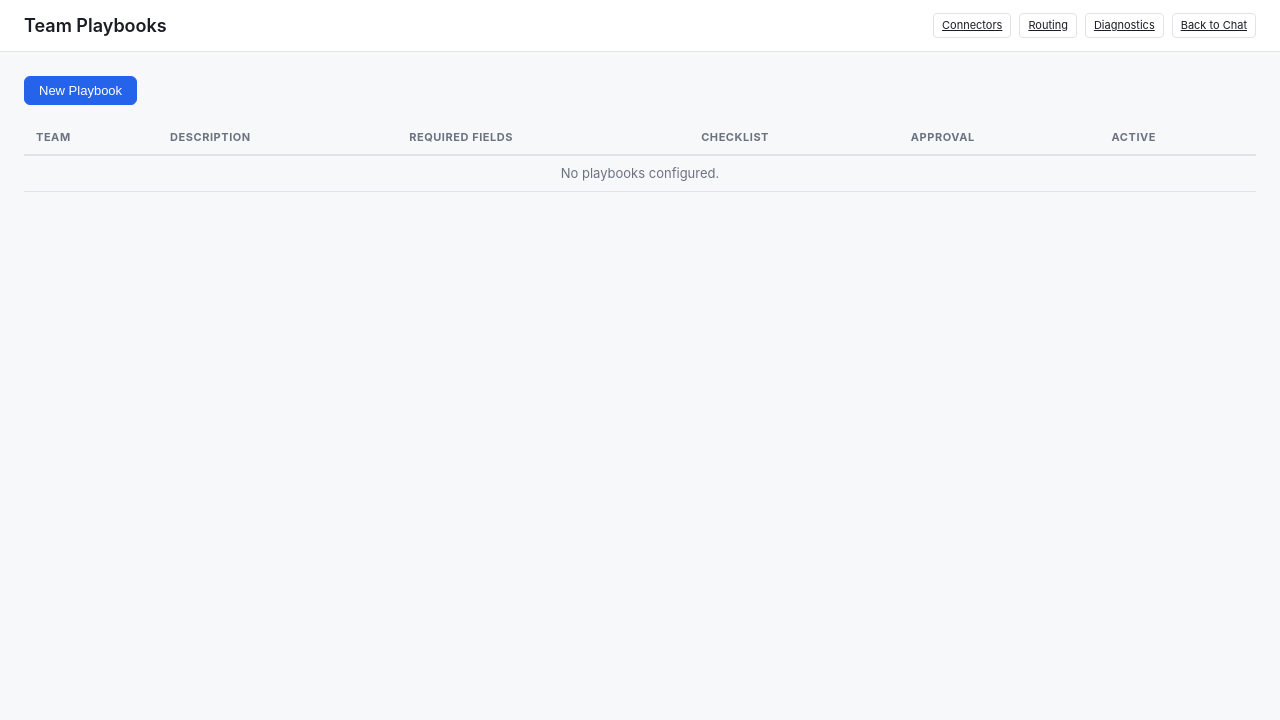
Test: PlaybooksPage › checklist form has aria-labels on input and remove buttons
Click the button with test id "new-playbook-btn".
click(81, 90)  # box [24, 76, 137, 105]
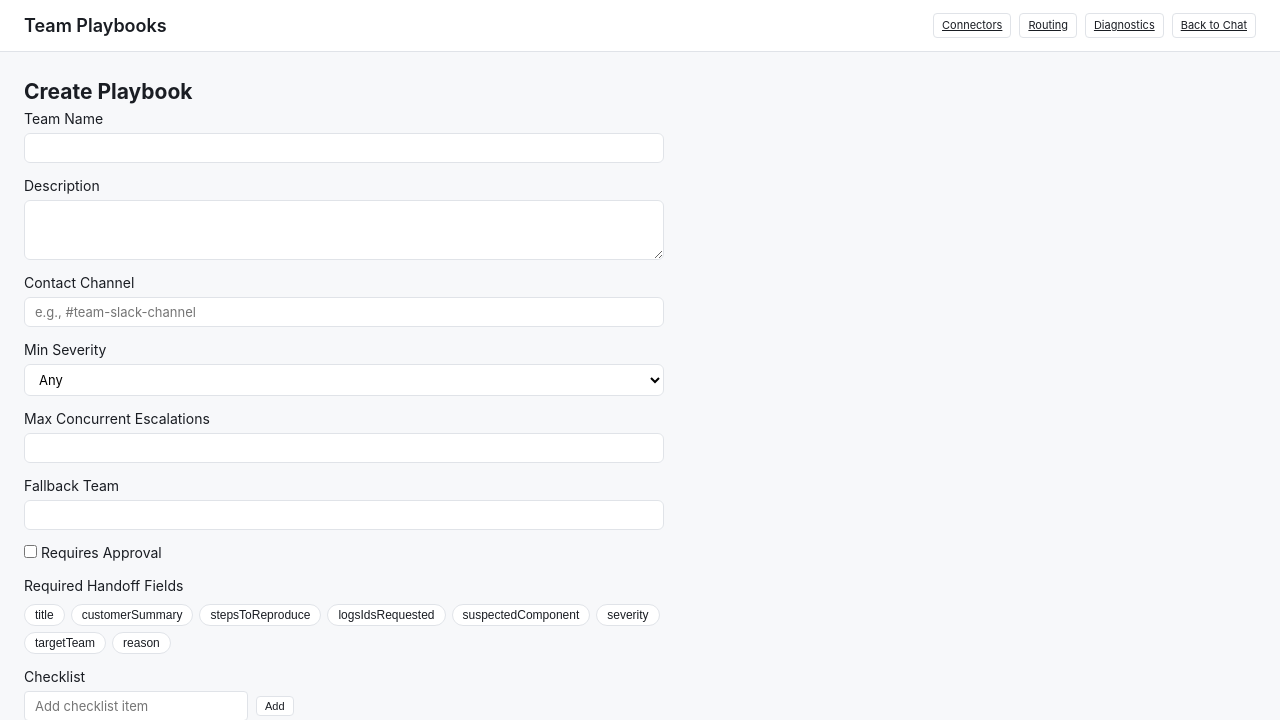
Result: the field named "New checklist item" is shown
// Add a checklist item
Type "Check logs" into the field named "New checklist item".
click(136, 706); type("Check logs")  # box [24, 690, 248, 719]
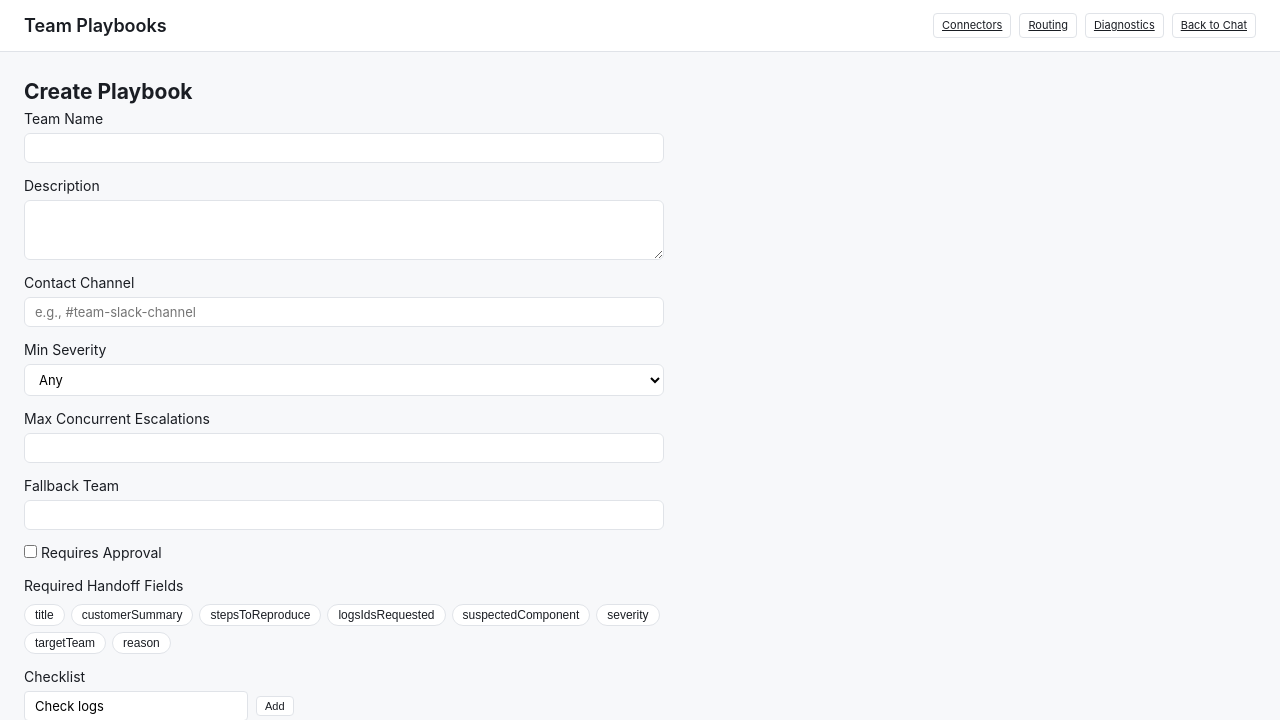
Click the button "Add".
click(275, 706)  # box [256, 696, 294, 716]
(page scrolled)
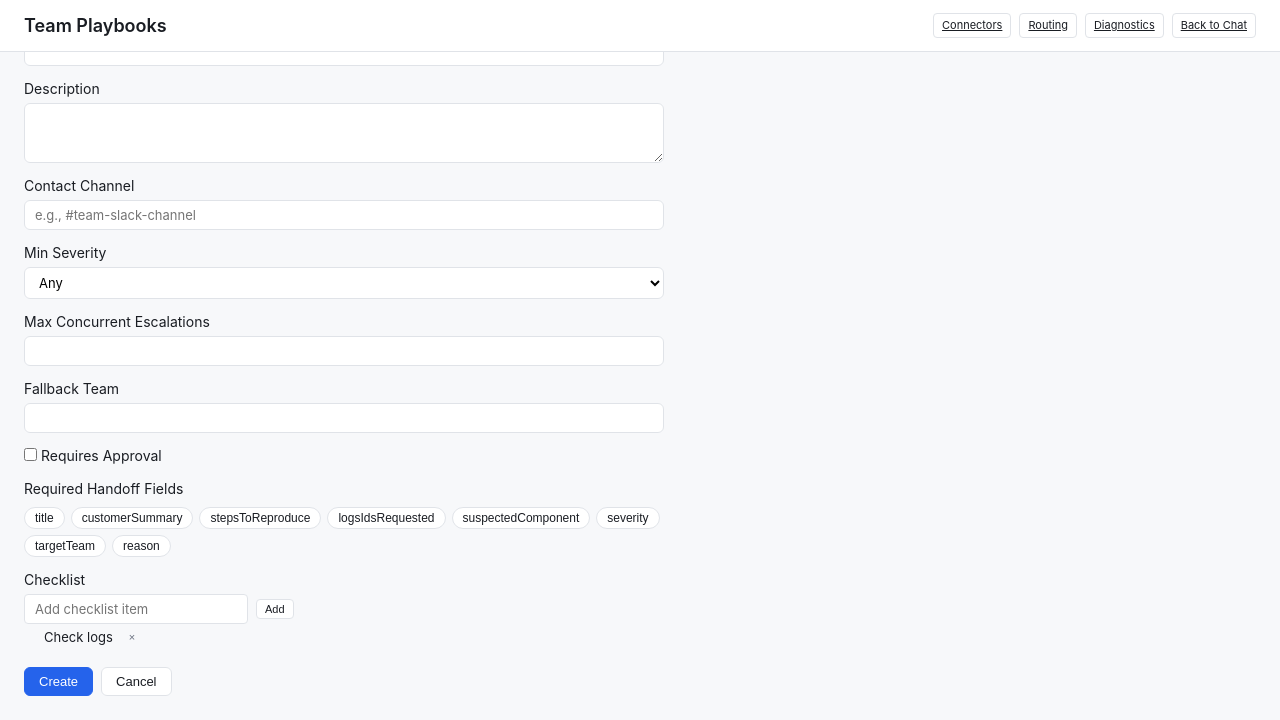
Result: the button named "Remove checklist item: Check logs" is shown at [121, 628, 143, 646]
